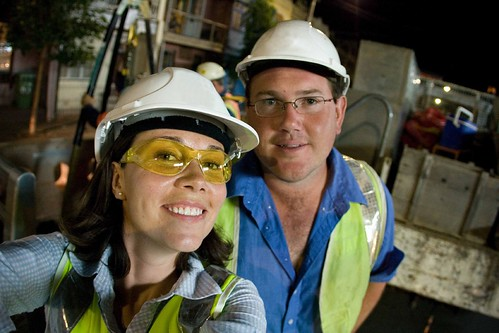person hardhat: (6, 60, 272, 333), (214, 17, 398, 333), (190, 61, 243, 122)
